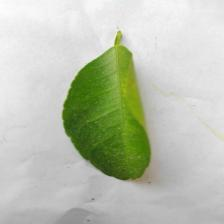greening: (85, 76, 159, 135)
